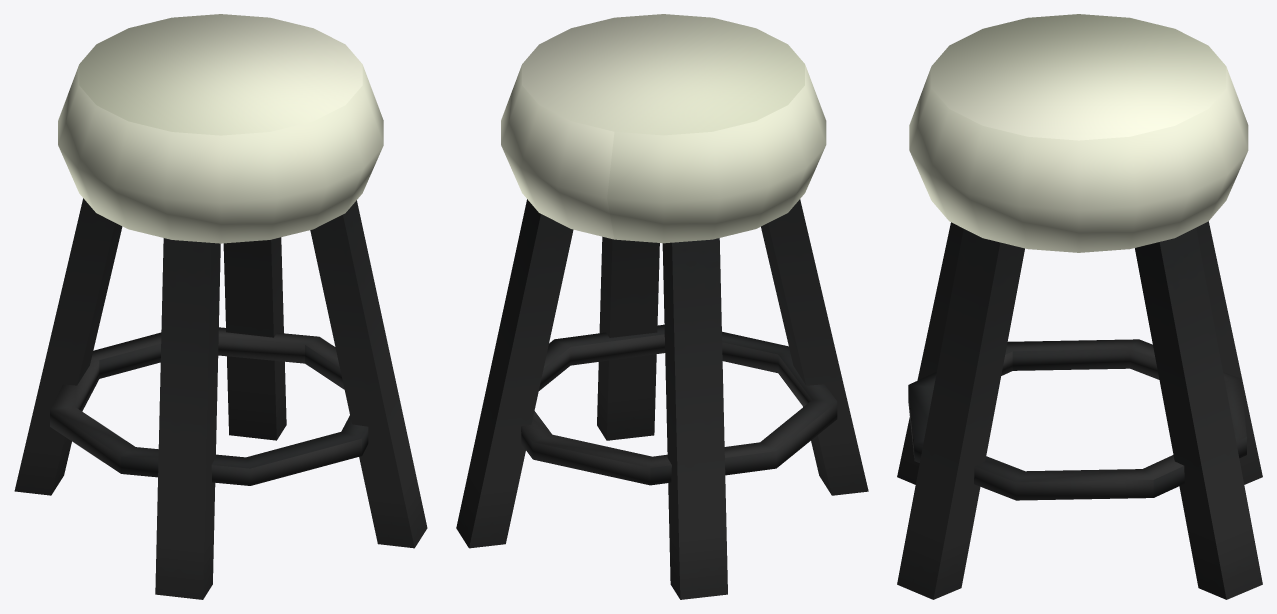
File: Stool_A.FBX
The picture shows the model from 3 angles, left to right: view 1: azimuth 30°, elevation 25°; view 2: azimuth 150°, elevation 25°; view 3: azimuth 270°, elevation 25°; orthographic projection. The views are drawn at different scales.
Visible parts, largest first — view 1: Stool; view 2: Stool; view 3: Stool.
Boxes of the visible parts, bbox=[...] form: Stool: bbox=[14, 14, 427, 599]; Stool: bbox=[456, 14, 868, 599]; Stool: bbox=[897, 14, 1262, 599].
Size of the model in its own units: 117 by 169 by 124.
